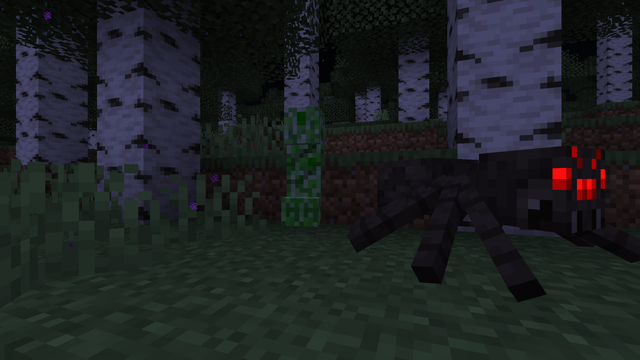araignees: (382, 128, 616, 293)
creepers: (277, 98, 330, 225)
